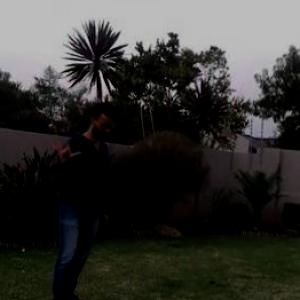land_hand: (52, 136, 84, 168)
